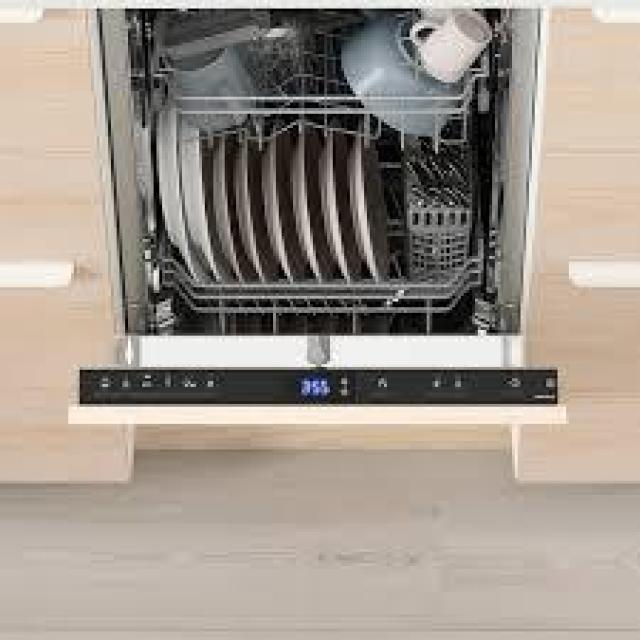dishwasher: (62, 0, 578, 492)
